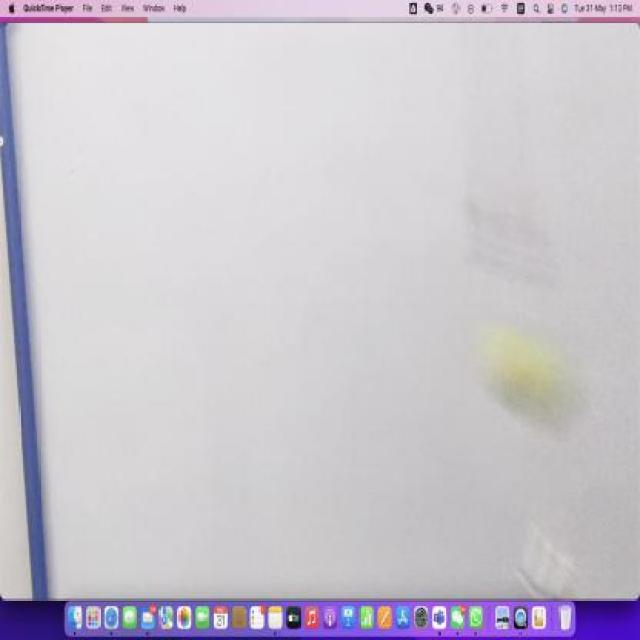baseball: (472, 316, 580, 436)
